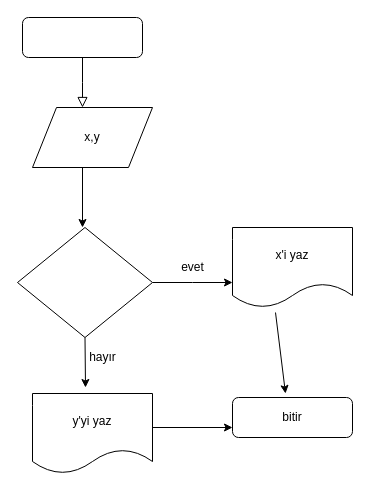
The diagram is 370 pixels wide and 491 high, and some of its shapes have lost their labels. Here are the shapes that lost their labels. From the top down, the centre of each, then its label:
pixel 82 37: başla
pixel 84 282: x>y
